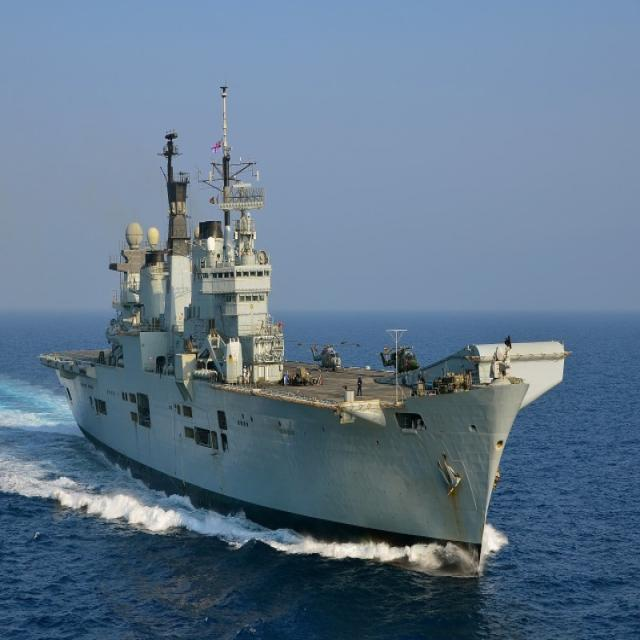Portanaves: (37, 75, 572, 578)
